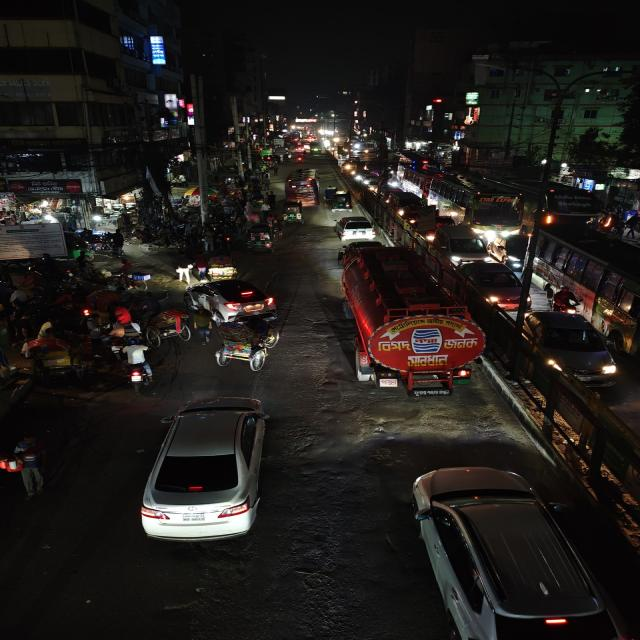bicycle: (104, 256, 154, 291)
bus: (525, 220, 640, 342), (425, 172, 525, 248), (283, 167, 322, 208)
car: (400, 456, 612, 640), (132, 392, 272, 554), (521, 308, 621, 389), (176, 281, 284, 320), (463, 260, 533, 312), (333, 216, 380, 242)
cng: (241, 223, 278, 252), (326, 188, 356, 216), (280, 200, 308, 226)
motorcycle: (114, 334, 158, 389), (549, 281, 579, 316)
pedestrian: (10, 431, 51, 504), (174, 251, 192, 285)
rickshaw: (212, 315, 288, 375), (12, 330, 87, 386), (203, 250, 238, 280)
truck: (330, 246, 494, 402)
